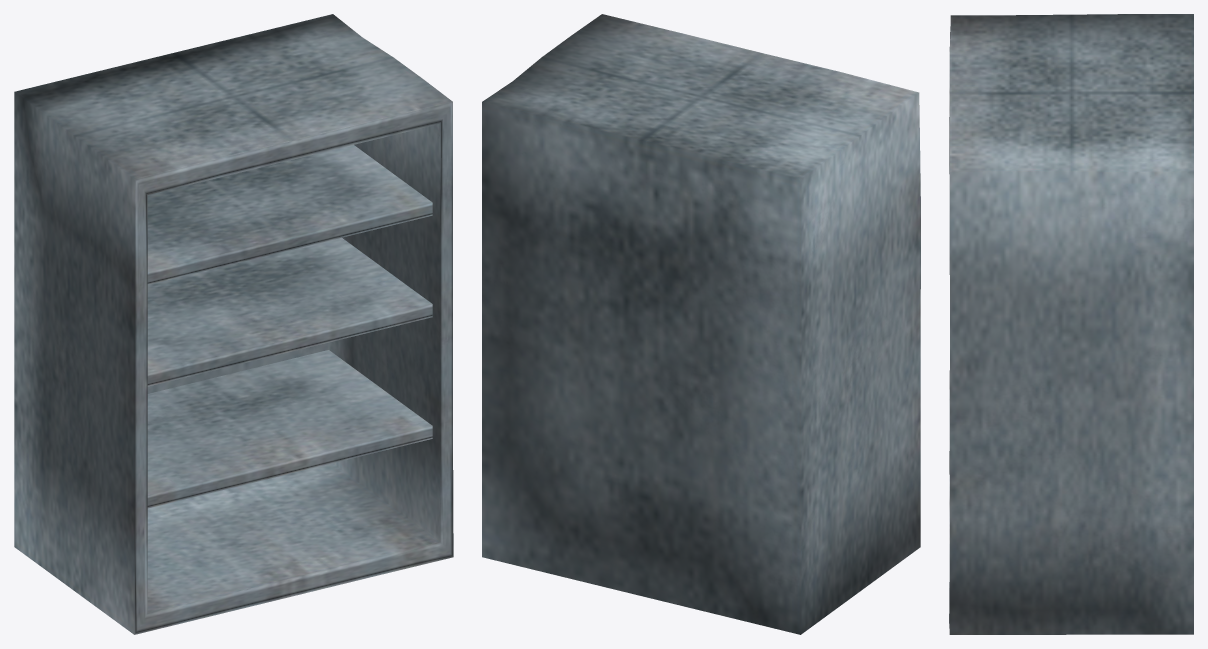
The model's file is cabinet.fbx.
The picture shows the model from 3 angles, left to right: view 1: azimuth 30°, elevation 25°; view 2: azimuth 150°, elevation 25°; view 3: azimuth 270°, elevation 25°; orthographic projection.
Parts seen in each view (by area): view 1: cabinet; view 2: cabinet; view 3: cabinet.
Boxes of the visible parts, box(x1,y1,x2,y2) form: cabinet: box(14, 14, 453, 634); cabinet: box(482, 14, 920, 634); cabinet: box(949, 14, 1193, 634).
Size of the model in its own units: 572 by 781 by 374.
